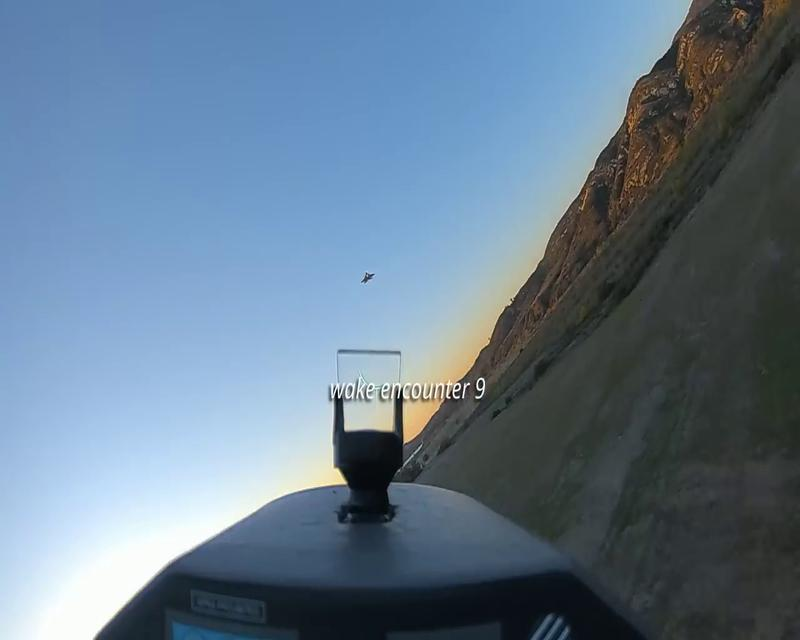UAV: (360, 272, 376, 284)
